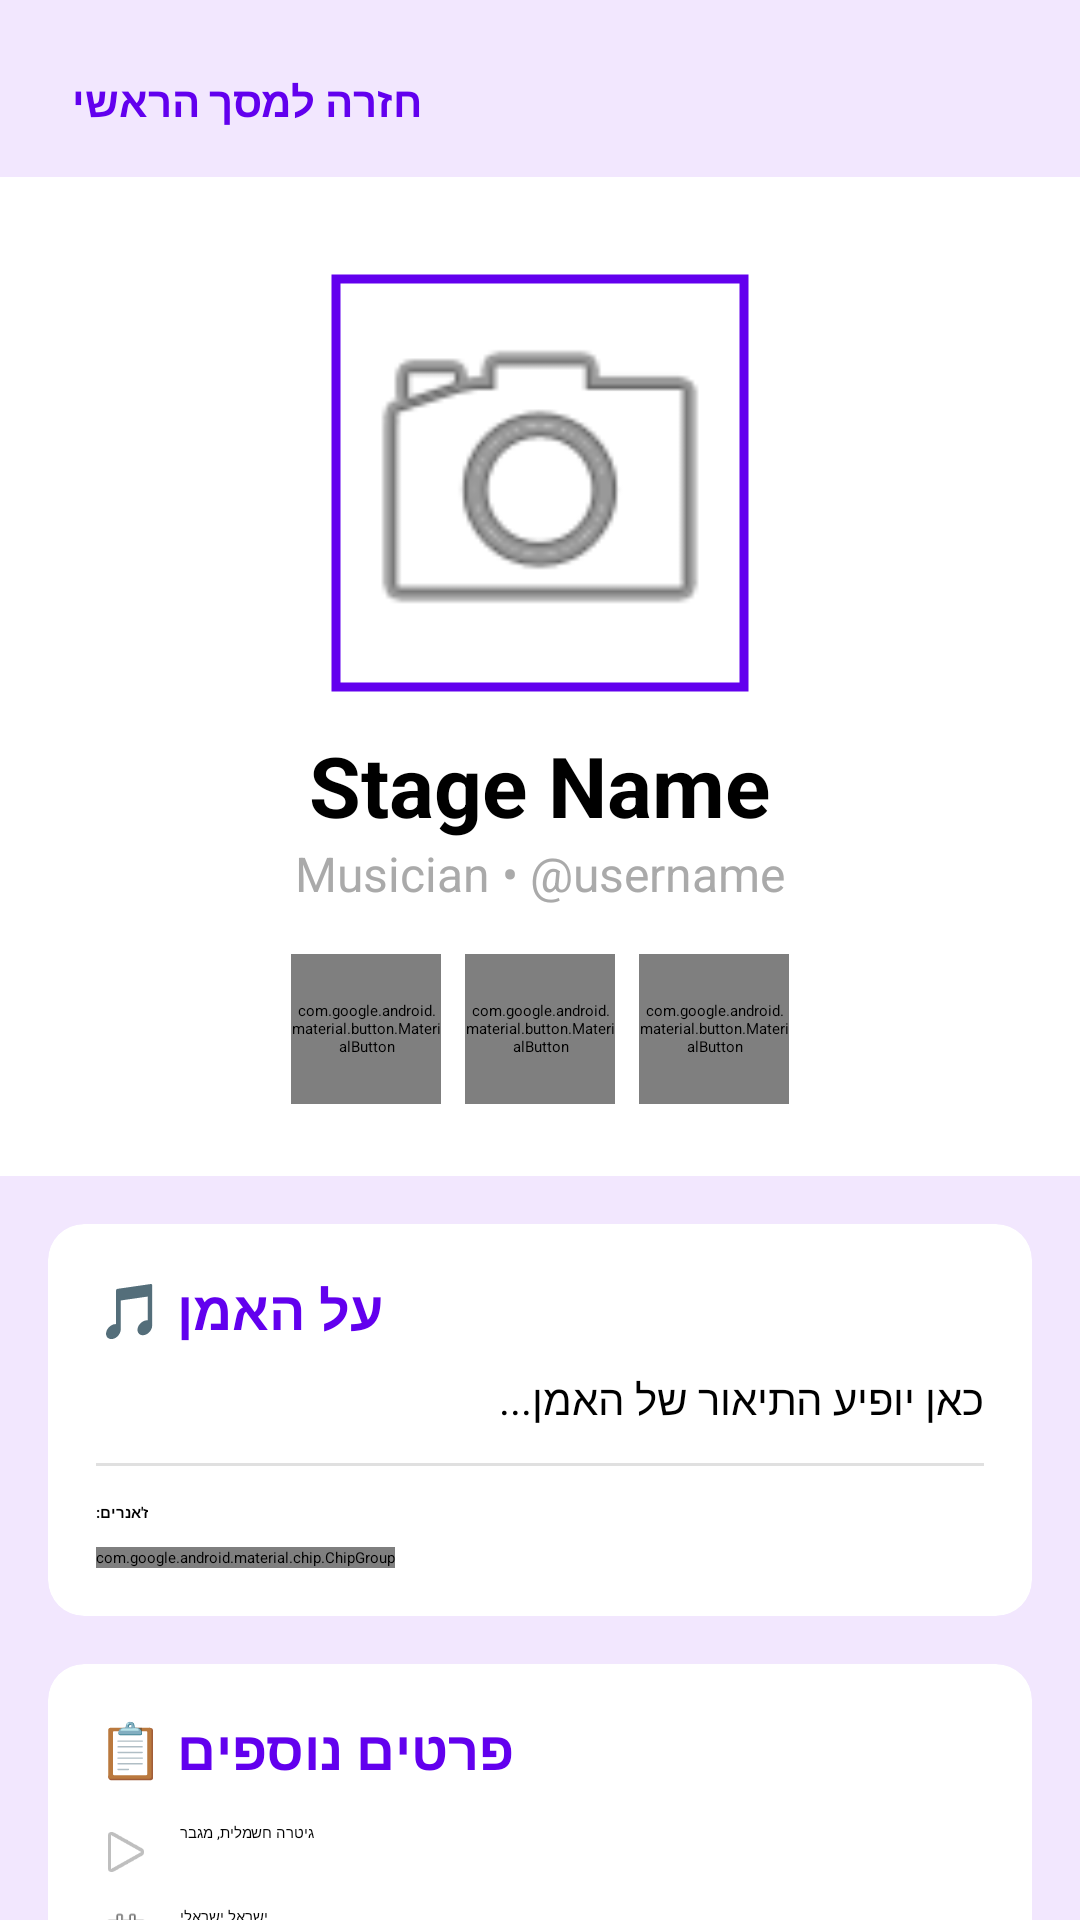

Point at icon controls on the screen. Image size 1080*1920, points as (x,y).
play: (126,1852)
